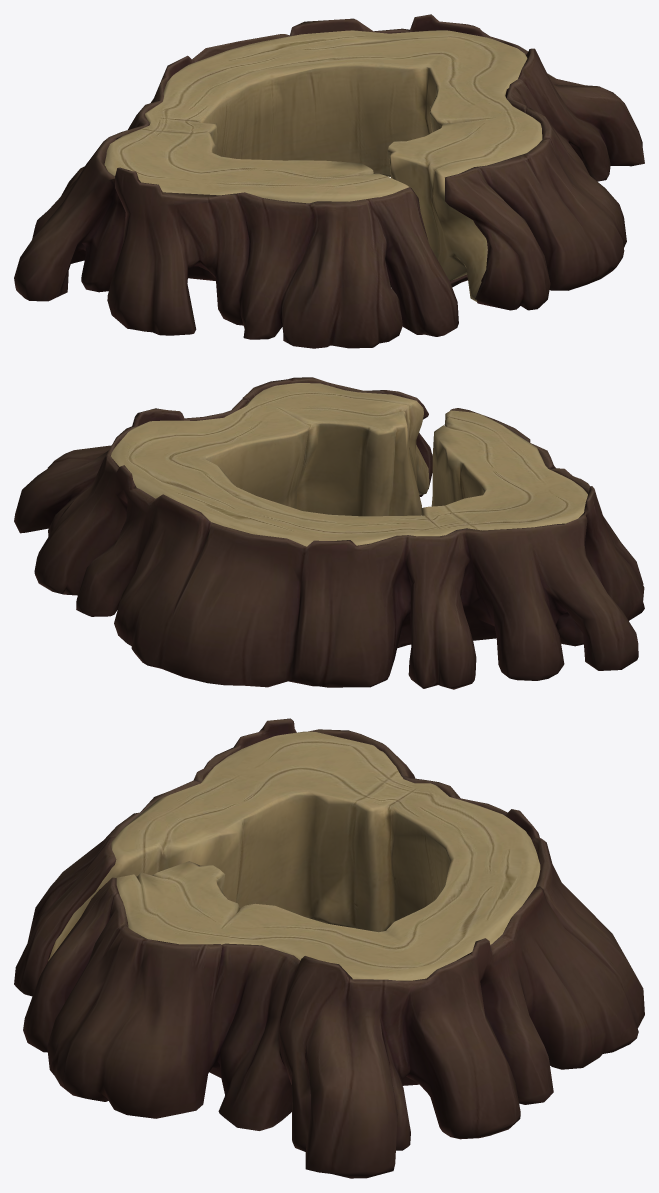
File: bog_giant_trunk.glb
3 renders of one model, top to bottom at view 1: azimuth 30°, elevation 25°; view 2: azimuth 150°, elevation 25°; view 3: azimuth 270°, elevation 25°, orthographic. The views are drawn at different scales.
Parts seen in each view (by area): view 1: SM_XBOG_HRO_GiantTrunk_01; view 2: SM_XBOG_HRO_GiantTrunk_01; view 3: SM_XBOG_HRO_GiantTrunk_01.
Part boxes in pixels (box(x1,y1,x2,y2)): SM_XBOG_HRO_GiantTrunk_01: box(14, 14, 644, 348); SM_XBOG_HRO_GiantTrunk_01: box(14, 377, 644, 689); SM_XBOG_HRO_GiantTrunk_01: box(14, 718, 644, 1178).
Size of the model in its own units: 44.39 by 9.43 by 33.88.
1 material, 1 textured.
